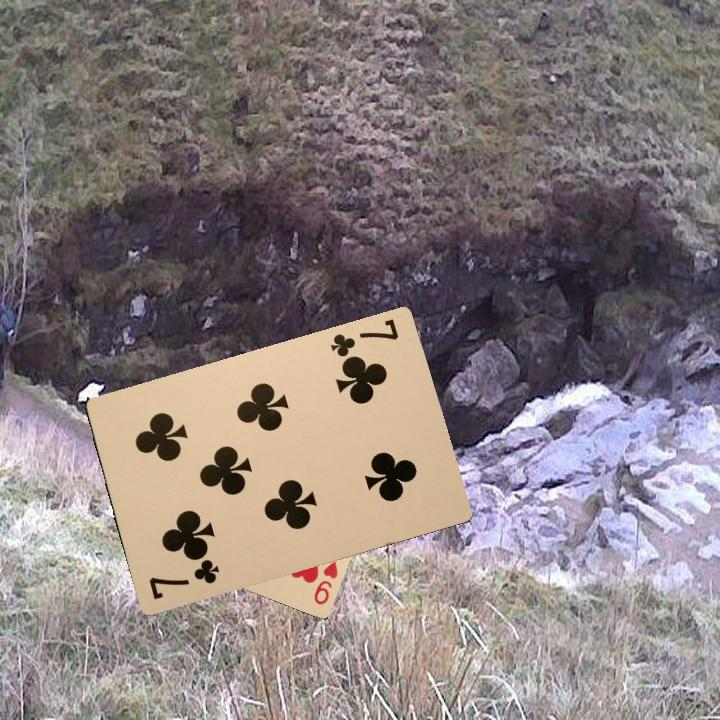7c: (326, 314, 401, 368), (145, 555, 222, 602)
9h: (310, 557, 341, 607)
